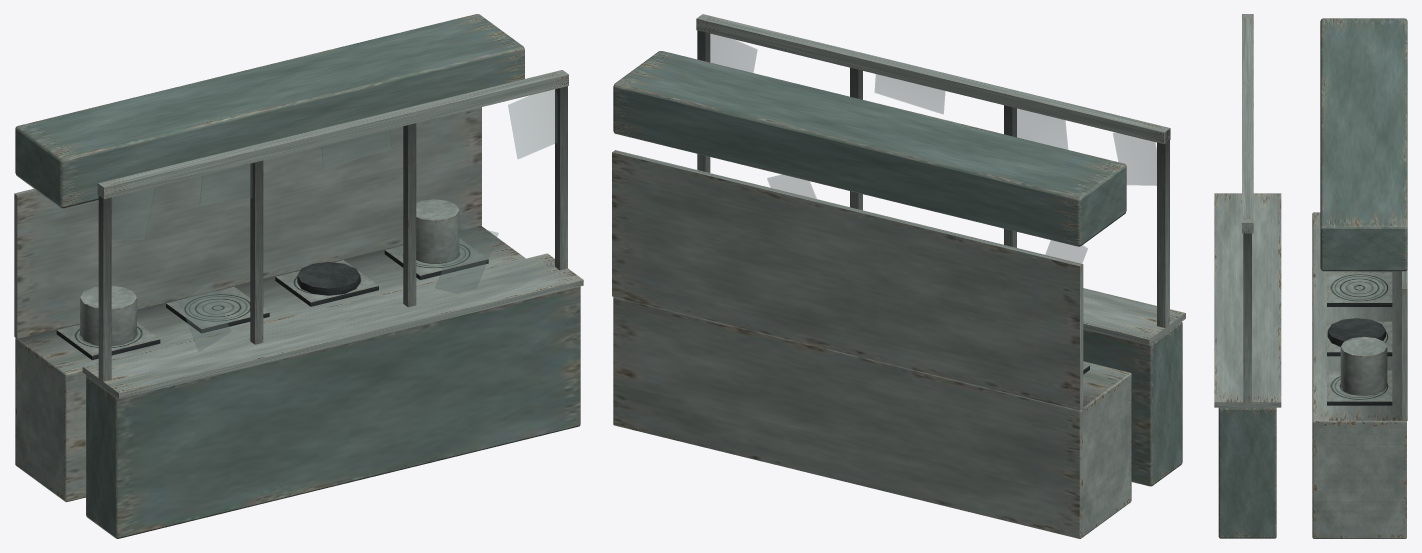
Rendered from kitchen_line.glb.
3 views of the same model, side by side, from view 1: azimuth 30°, elevation 25°; view 2: azimuth 150°, elevation 25°; view 3: azimuth 270°, elevation 25° (orthographic). The views are drawn at different scales.
Visible parts, largest first — view 1: KitchenLine; view 2: KitchenLine; view 3: KitchenLine.
Part boxes in pixels (x1=…): KitchenLine: x1=14, y1=14, x2=583, y2=538; KitchenLine: x1=612, y1=14, x2=1185, y2=538; KitchenLine: x1=1214, y1=14, x2=1407, y2=538.
Bounding box in the file's own units: 3.4 × 2.4 × 1.33.
2 materials, 1 textured.
